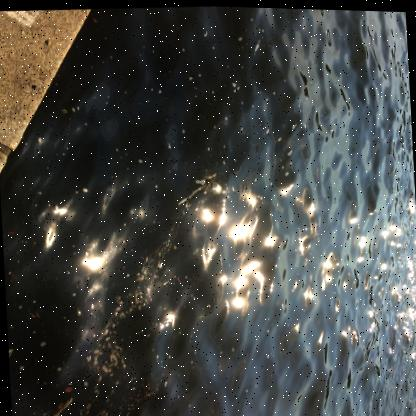Plastic: (203, 178, 221, 193)
